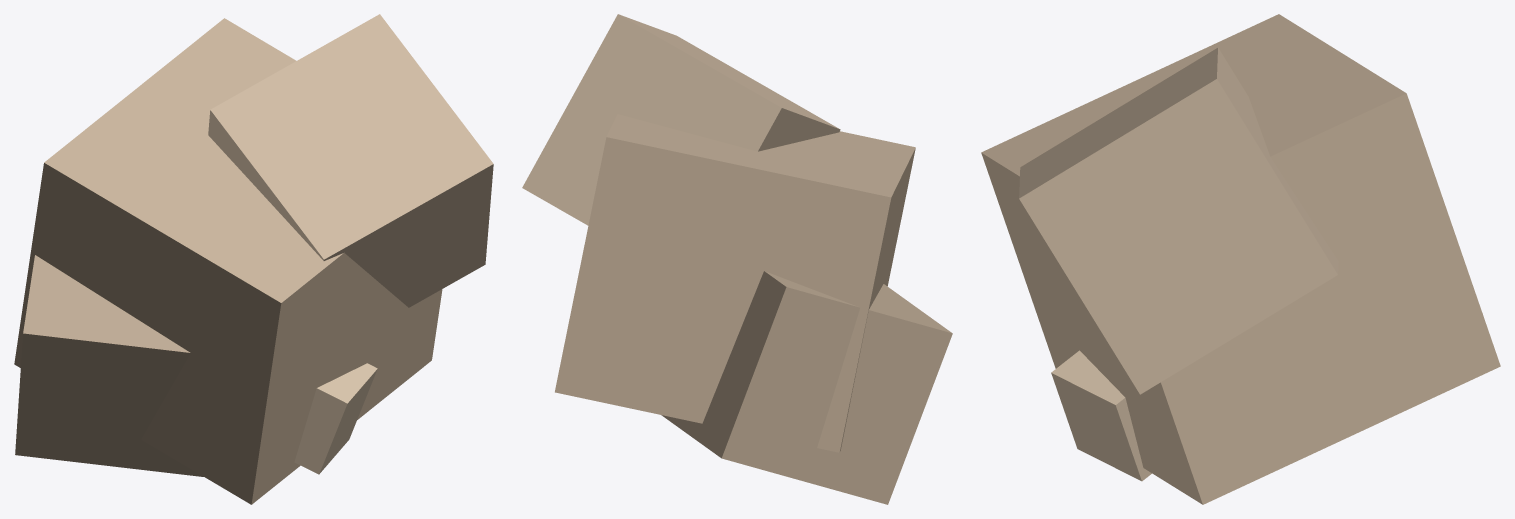
Rendered from RockThrow.fbx.
3 renders of one model, left to right at view 1: azimuth 30°, elevation 25°; view 2: azimuth 150°, elevation 25°; view 3: azimuth 270°, elevation 25°, orthographic. The views are drawn at different scales.
Parts seen in each view (by area): view 1: Rock_Main, Rock_Lump, Rock_Lump.001, Rock_Chip; view 2: Rock_Main, Rock_Lump.001, Rock_Lump; view 3: Rock_Main, Rock_Lump, Rock_Chip.
Boxes of the visible parts, x1,y1,x2,y2 form: Rock_Main: (14,18,442,504); Rock_Lump: (208,14,493,307); Rock_Lump.001: (15,255,203,476); Rock_Chip: (294,363,377,474); Rock_Main: (555,114,915,452); Rock_Lump.001: (661,271,952,504); Rock_Lump: (522,14,840,225); Rock_Main: (981,14,1500,504); Rock_Lump: (1019,48,1338,394); Rock_Chip: (1051,350,1151,481).
Size of the model in its own units: 200 by 186 by 188.
